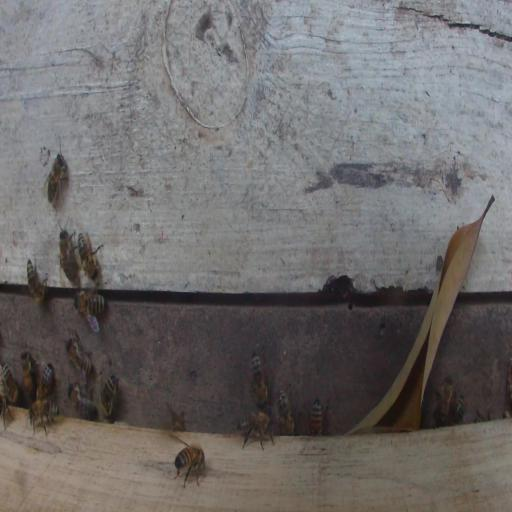bee: (240, 410, 276, 451), (45, 146, 69, 205), (173, 444, 205, 488), (77, 231, 104, 281), (67, 332, 93, 379), (25, 398, 57, 436), (69, 380, 98, 420), (250, 352, 269, 406), (26, 257, 48, 303), (434, 375, 453, 427), (59, 227, 77, 280), (275, 388, 295, 434), (74, 290, 105, 317), (100, 372, 117, 419), (1, 362, 19, 405), (36, 363, 54, 400), (165, 402, 186, 433), (20, 350, 31, 403), (310, 397, 323, 436), (450, 395, 465, 425)
